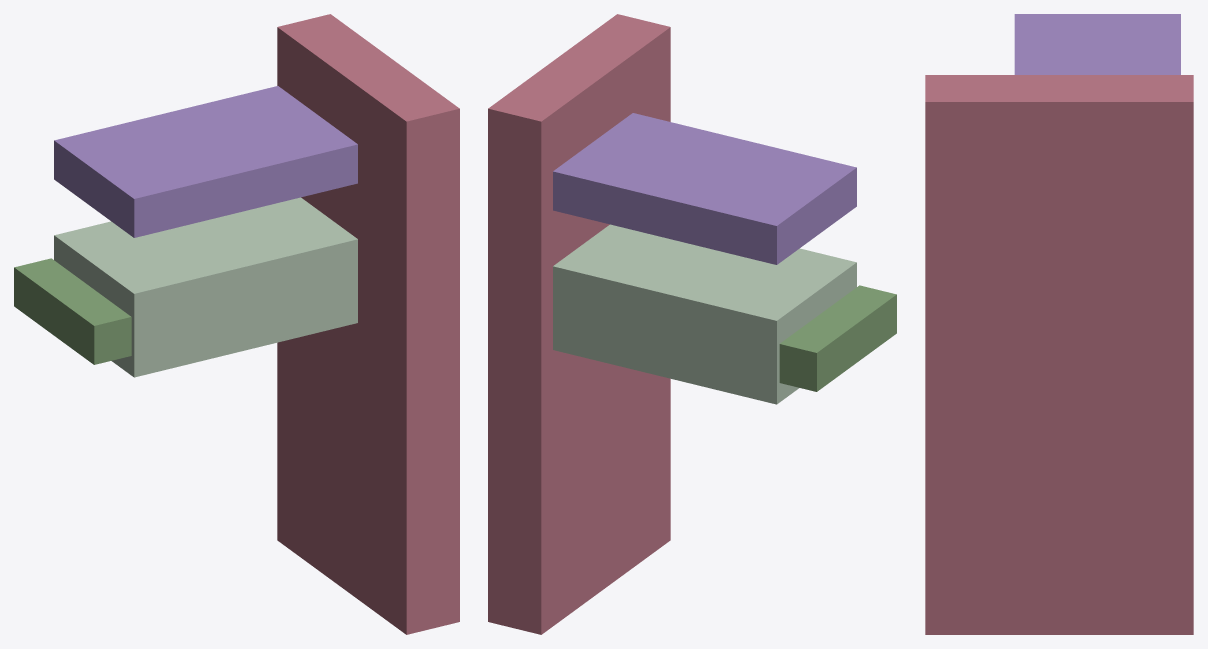
Rendered from 199535_pred.glb.
The picture shows the model from 3 angles, left to right: view 1: azimuth 30°, elevation 25°; view 2: azimuth 150°, elevation 25°; view 3: azimuth 270°, elevation 25°; orthographic projection. The views are drawn at different scales.
Visible parts, largest first — view 1: world; view 2: world; view 3: world.
Boxes of the visible parts, left/top/right/bottom form: world: left=14, top=14, right=459, bottom=634; world: left=488, top=14, right=896, bottom=634; world: left=925, top=14, right=1193, bottom=634.
Bounding box in the file's own units: 6.05 × 9.2 × 4.2.
